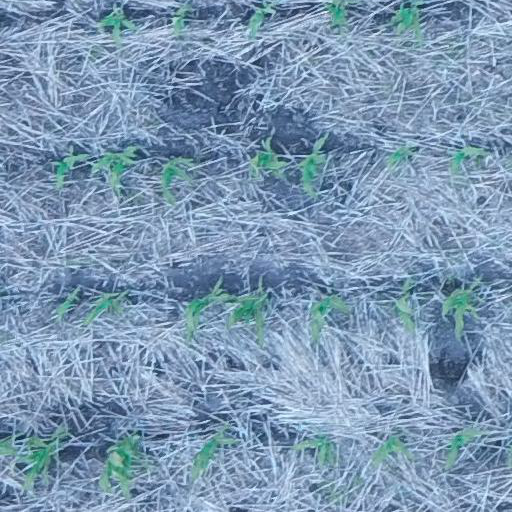planta: (17, 427, 64, 490), (224, 283, 270, 342), (89, 144, 137, 197), (192, 426, 238, 479), (99, 434, 137, 497), (185, 283, 222, 340), (299, 133, 329, 199), (442, 287, 477, 338), (310, 294, 347, 342), (249, 136, 289, 177), (160, 157, 193, 205), (83, 289, 126, 323), (52, 150, 89, 188), (289, 434, 333, 464), (447, 429, 478, 468), (99, 9, 134, 42), (394, 280, 416, 331), (247, 2, 275, 38), (371, 436, 409, 461), (451, 146, 486, 172), (56, 285, 80, 320), (387, 147, 417, 165), (174, 2, 190, 33)
